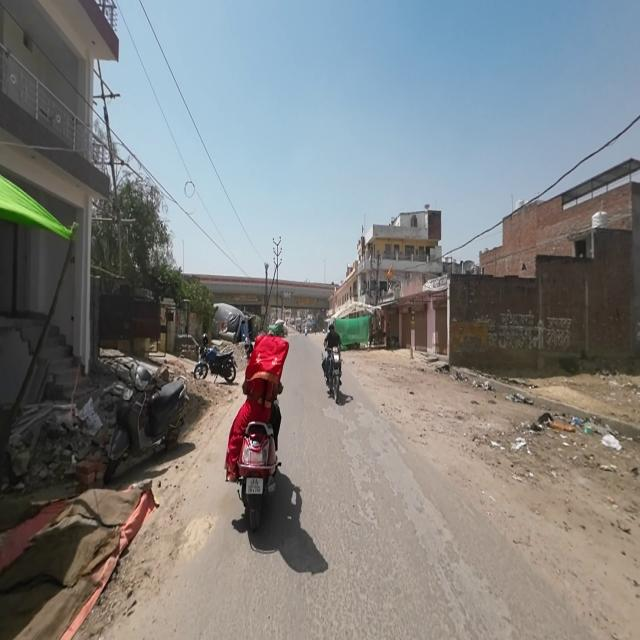Garbage: (525, 414, 619, 447), (472, 378, 493, 392), (450, 370, 468, 384)
